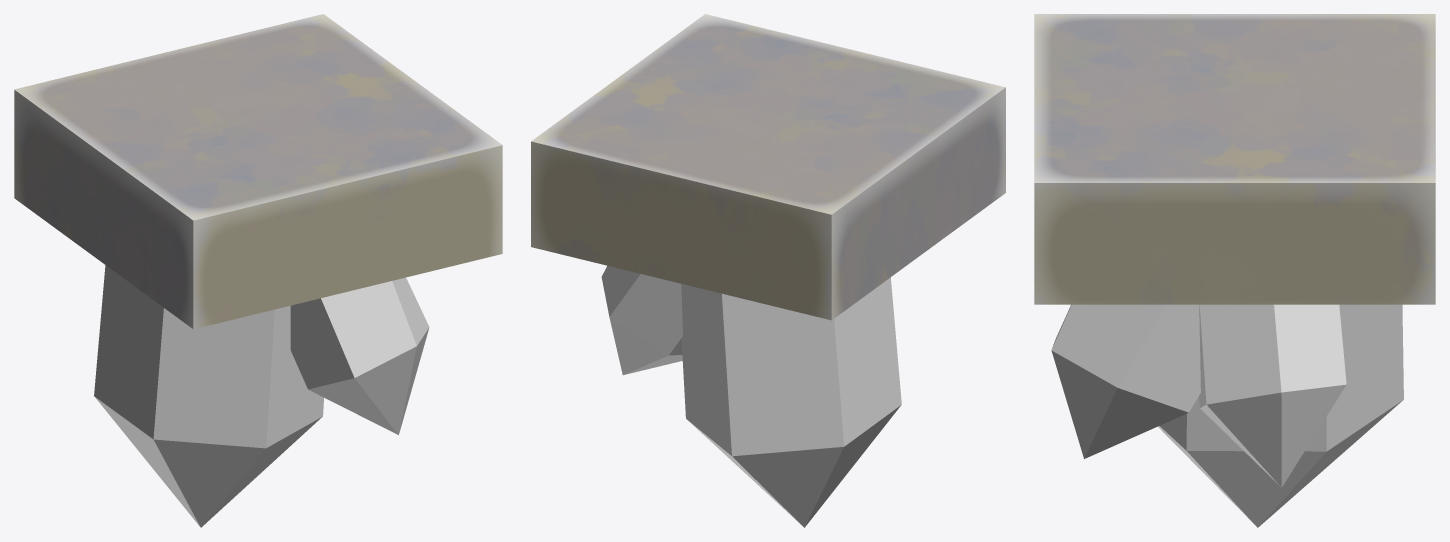
Rendered from plataforma movible.fbx.
3 views of the same model, side by side, from view 1: azimuth 30°, elevation 25°; view 2: azimuth 150°, elevation 25°; view 3: azimuth 270°, elevation 25° (orthographic). The views are drawn at different scales.
Visible parts, largest first — view 1: Cube.012, Cube.006, Cube.010; view 2: Cube.012, Cube.006, Cube.008; view 3: Cube.012, Cube.008, Cube.010, Cube.006.
Part boxes in pixels (x1,y1,x2,y2): Cube.012: (14,14,502,329); Cube.006: (94,265,323,527); Cube.010: (290,277,429,435); Cube.012: (531,14,1005,320); Cube.006: (681,277,901,527); Cube.008: (601,266,682,375); Cube.012: (1034,14,1435,304); Cube.008: (1199,304,1346,487); Cube.010: (1051,304,1200,458); Cube.006: (1158,304,1403,527).
Bounding box in the file's own units: 99.12 × 124 × 99.44.
